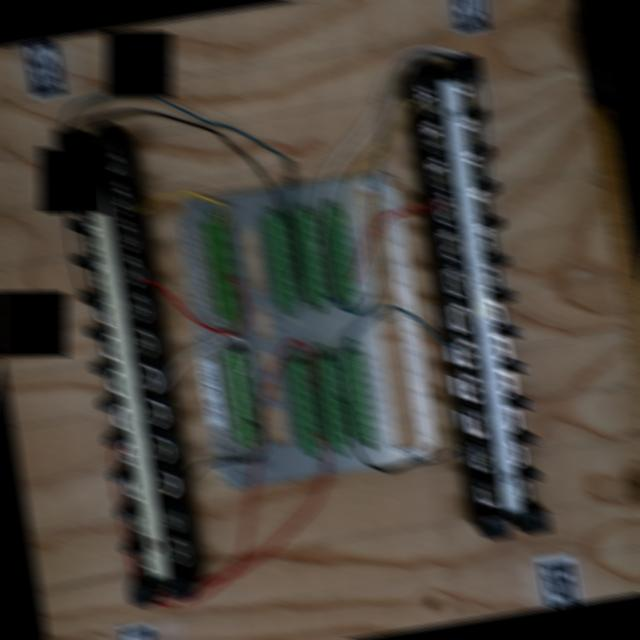Flathead_Block: (53, 121, 196, 607)
Phillips_Block: (412, 53, 552, 540)
Terminal_1: (221, 348, 260, 448), (202, 219, 240, 319)
Terminal_2: (286, 359, 323, 454), (292, 209, 329, 304), (314, 356, 351, 450), (322, 206, 358, 301), (263, 213, 299, 308)
